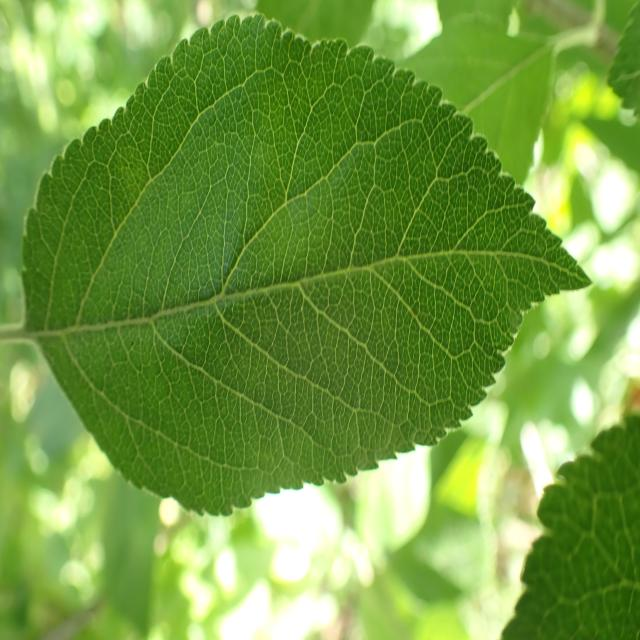healthy: (21, 12, 594, 514), (500, 411, 640, 640)
